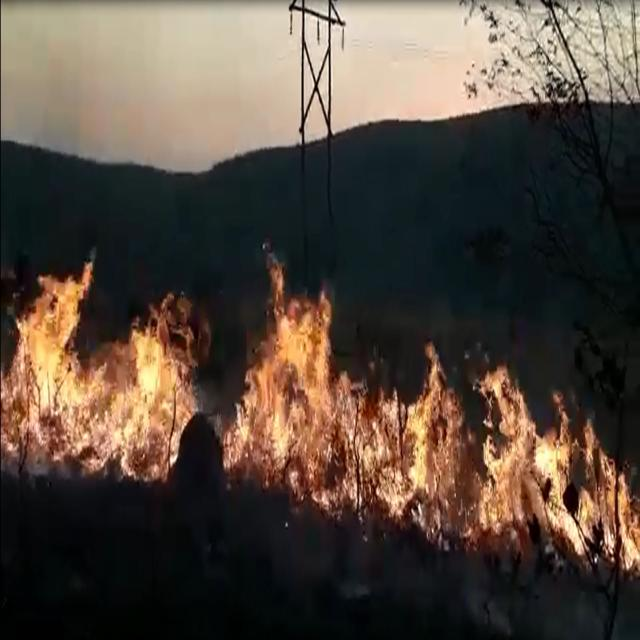fire: (231, 328, 451, 518), (4, 295, 184, 475), (476, 383, 637, 557)
